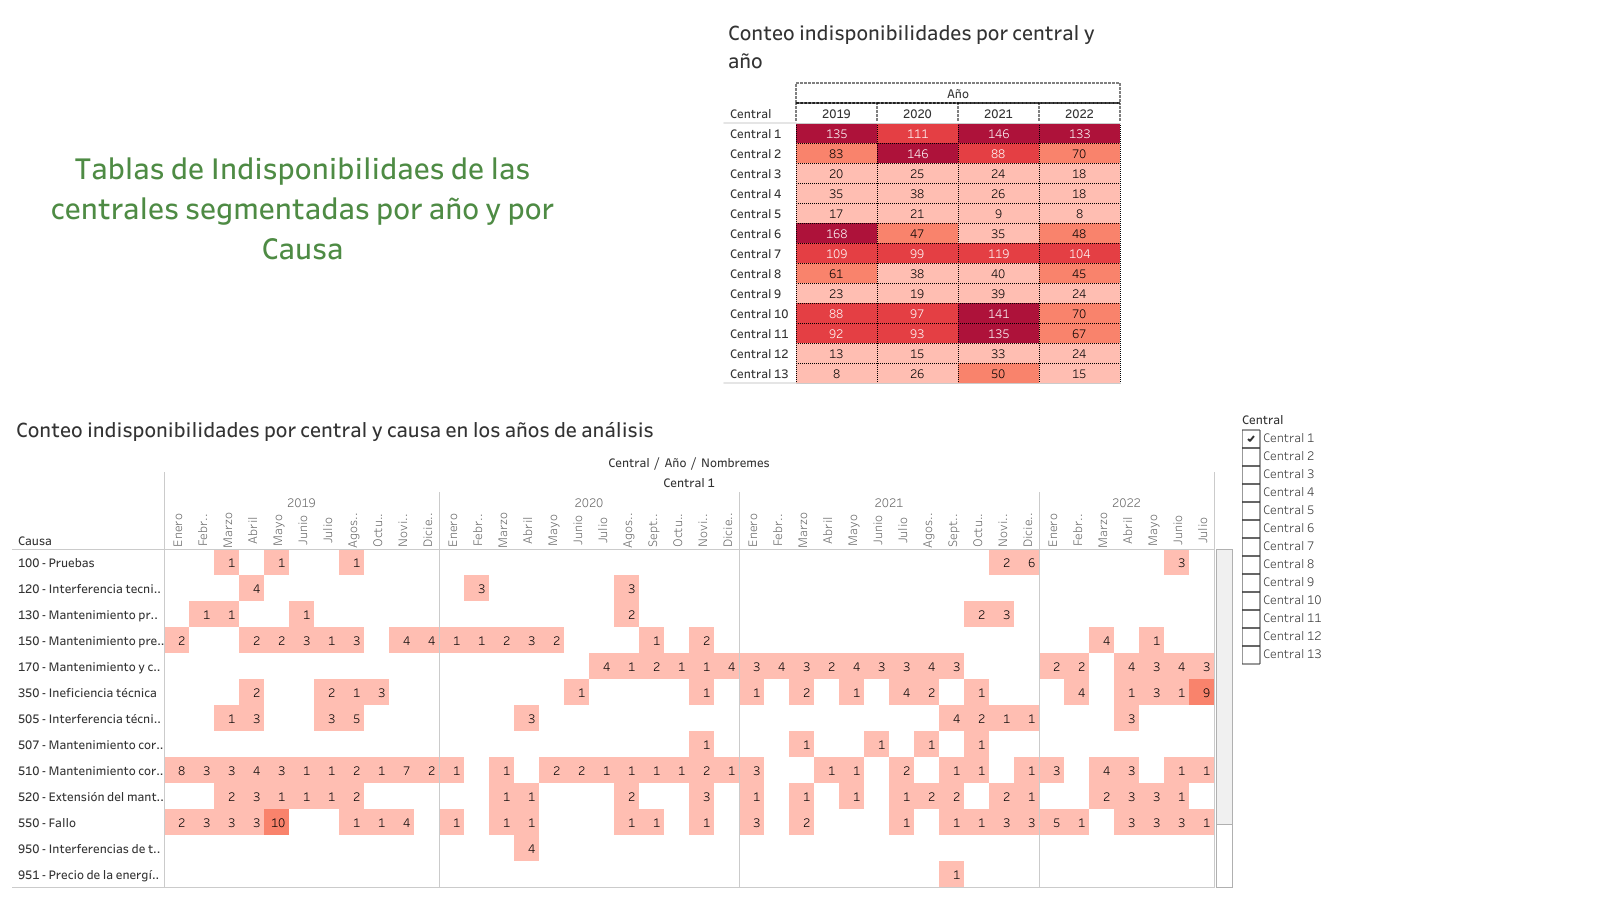

The dashboard page shown, as its layout file describes it:
{"tool":"tableau","page":{"name":"Dshb2","canvas":[1600,900],"ordinal":2},"visuals":[{"type":"legend","title":"V6","param":"[federated.0b2l14111demyc19wrfmd12f4dte].[cnt:Causa:qk]","box":[8,8,406,65]},{"type":"worksheet","title":"IndAño","mark":"Line","rows":["Central","Causa"],"cols":["Calculation_1014435877649276929"],"box":[414,8,1108,527]},{"type":"worksheet","title":"leyend","mark":"Square","rows":["año"],"box":[1522,8,70,326]},{"type":"worksheet","title":"IndCenAñ","mark":"Square","rows":["Central"],"cols":["año"],"box":[8,73,406,380]},{"type":"worksheet","title":"V6","mark":"Square","rows":["Causa"],"cols":["Central","año","Calculation_1014435877649276929"],"box":[8,535,1229,357]},{"type":"filter","title":"V6","param":"[federated.0b2l14111demyc19wrfmd12f4dte].[none:Central:nk]","box":[1237,535,168,357]}]}

Visuals, with their boxes in screenshot pixels (x1, y1, x2, y2), scaled from the page's 1600x900 canvas onto the 1599x899 screenshot:
"V6" legend: <box>8,8,414,73</box>
"IndAño" worksheet (Line marks): <box>414,8,1521,534</box>
"leyend" worksheet (Square marks): <box>1521,8,1591,334</box>
"IndCenAñ" worksheet (Square marks): <box>8,73,414,452</box>
"V6" worksheet (Square marks): <box>8,534,1236,891</box>
"V6" filter: <box>1236,534,1404,891</box>
